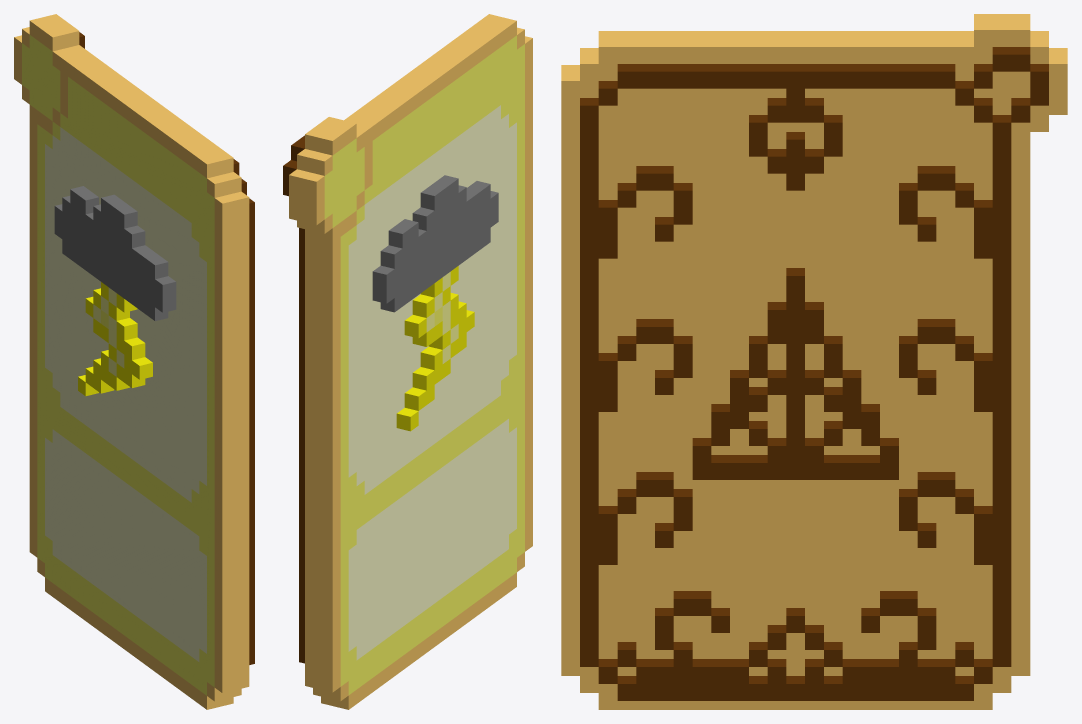
File: Pilipala.obj
The picture shows the model from 3 angles, left to right: view 1: azimuth 30°, elevation 25°; view 2: azimuth 150°, elevation 25°; view 3: azimuth 270°, elevation 25°; orthographic projection. The views are drawn at different scales.
Bounding box in the file's own units: 0.4 × 4 × 2.7.
1 material, 1 textured.
